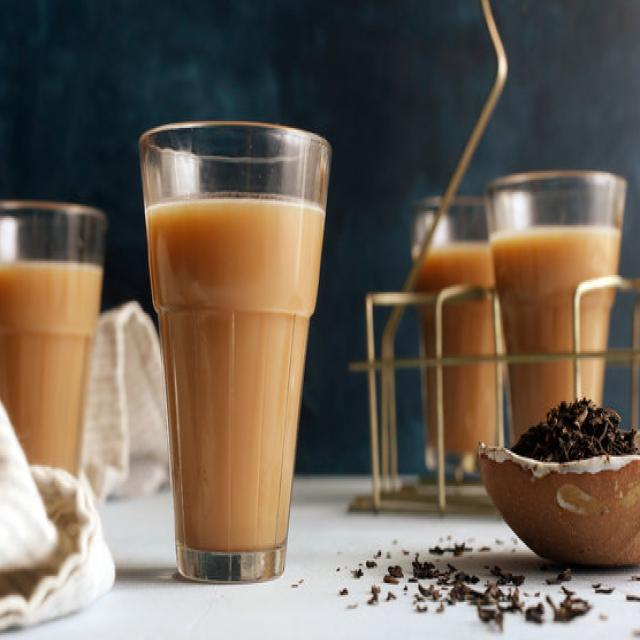chai: (136, 116, 329, 597)
